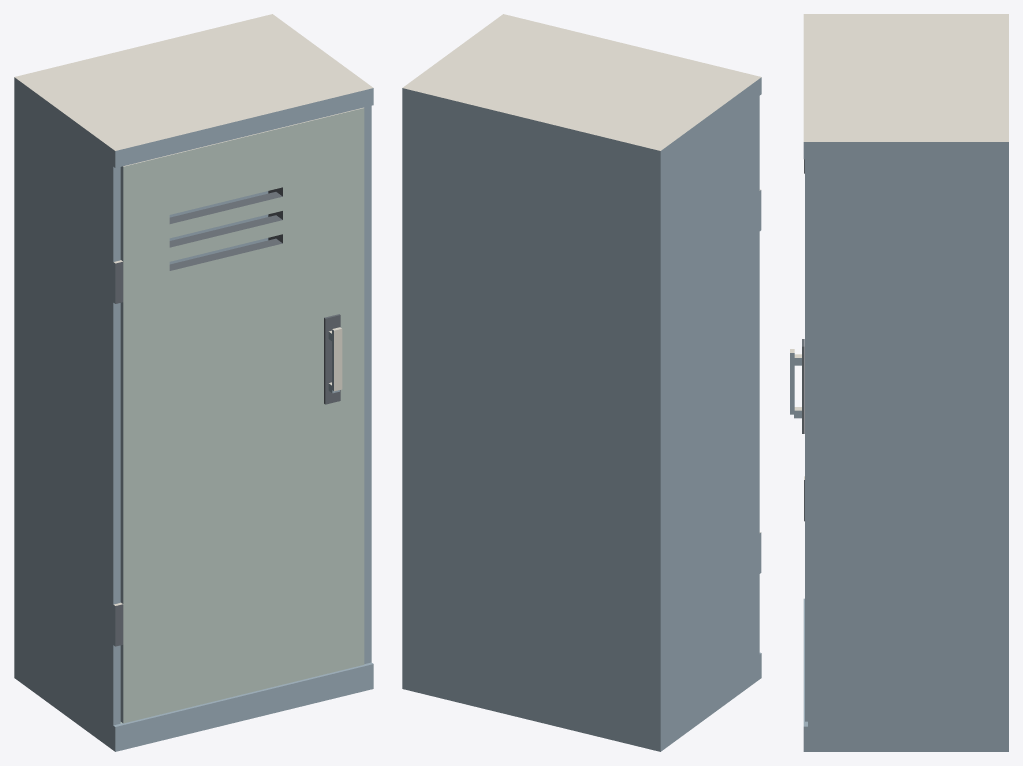
The model's file is locker.glb.
3 views of the same model, side by side, from view 1: azimuth 30°, elevation 25°; view 2: azimuth 150°, elevation 25°; view 3: azimuth 270°, elevation 25° (orthographic).
Visible parts, largest first — view 1: Door, Cabinet; view 2: Cabinet; view 3: Cabinet, Door.
Boxes of the visible parts, bbox=[...] form: Door: bbox=[120, 107, 364, 723]; Cabinet: bbox=[14, 14, 373, 751]; Cabinet: bbox=[402, 14, 761, 751]; Cabinet: bbox=[803, 14, 1008, 751]; Door: bbox=[790, 159, 807, 721].
Size of the model in its own units: 0.9 by 2 by 0.65.
Materials: 1 (1 with a texture image).
